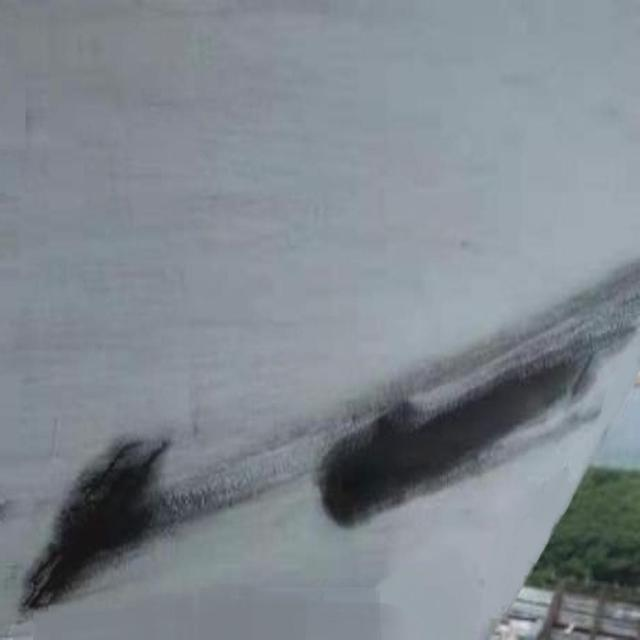crack: (311, 348, 604, 530), (23, 432, 178, 610)
